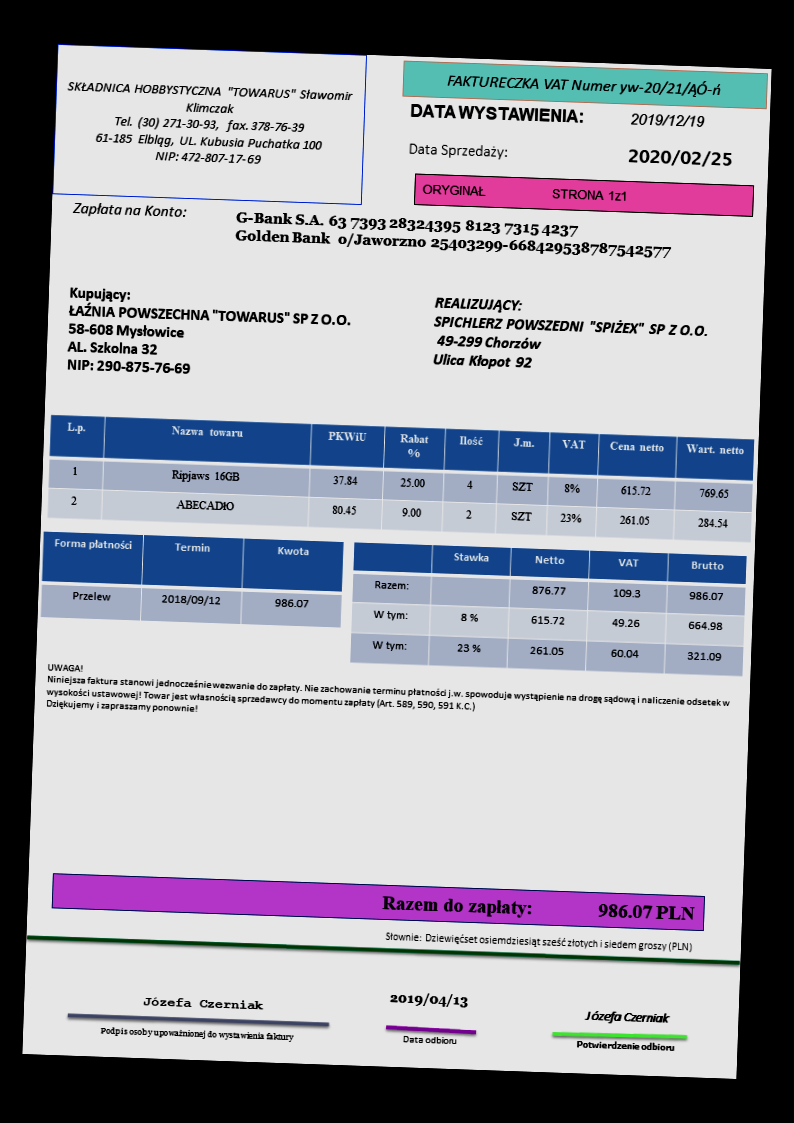Table: (45, 411, 754, 545), (349, 541, 749, 679), (39, 530, 344, 630)
TextBox: (43, 659, 733, 736), (64, 282, 353, 382), (60, 76, 357, 171), (232, 206, 675, 264), (430, 292, 711, 379), (379, 890, 696, 925), (442, 67, 726, 102), (383, 927, 696, 956), (419, 178, 632, 205), (407, 99, 587, 127), (98, 1023, 296, 1044), (625, 143, 735, 169), (407, 137, 510, 162), (71, 198, 187, 220), (140, 993, 265, 1012), (626, 107, 709, 132), (581, 1005, 672, 1027), (573, 1036, 678, 1055), (386, 988, 469, 1012), (399, 1031, 460, 1047)
